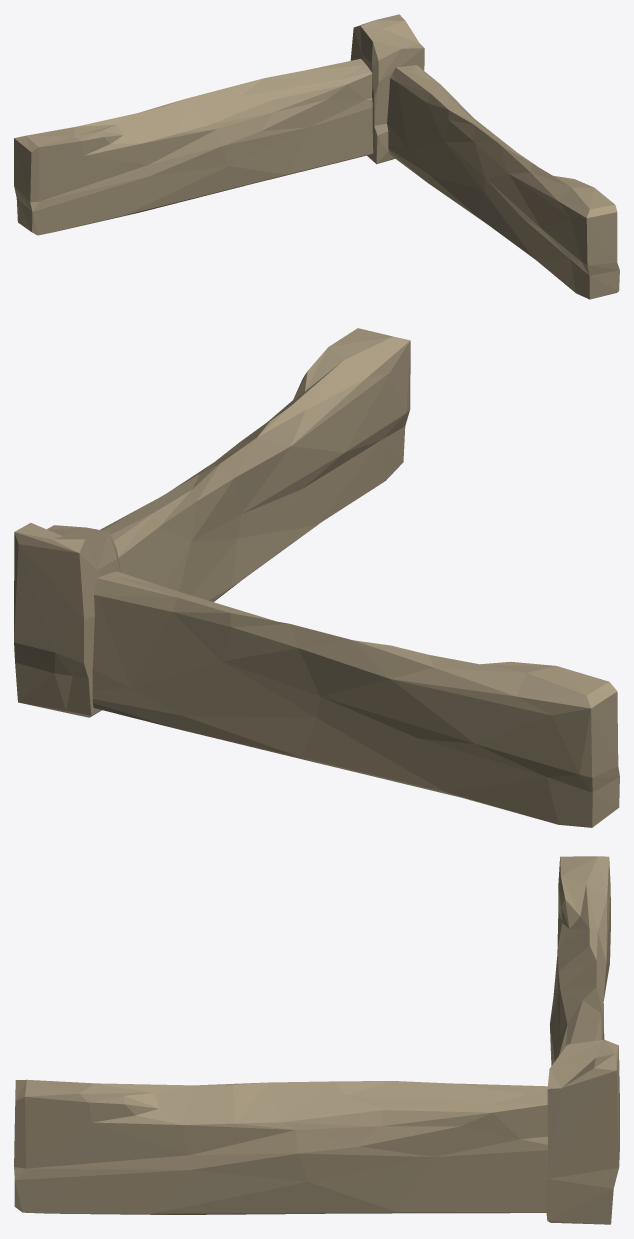
The model's file is SM_stonewall_corner.fbx.
3 views of the same model, one above another, from view 1: azimuth 30°, elevation 25°; view 2: azimuth 150°, elevation 25°; view 3: azimuth 270°, elevation 25° (orthographic). The views are drawn at different scales.
Visible parts, largest first — view 1: Object196; view 2: Object196; view 3: Object196.
Boxes of the visible parts, x1,y1,x2,y2 form: Object196: (14, 14, 619, 299); Object196: (14, 328, 619, 827); Object196: (14, 856, 619, 1224).
Bounding box in the file's own units: 162 × 165 × 47.87.
